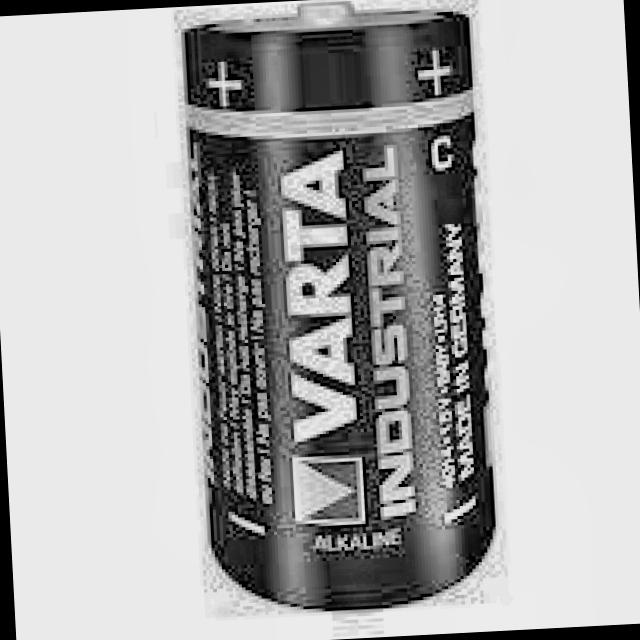Battery: (179, 0, 499, 614)
